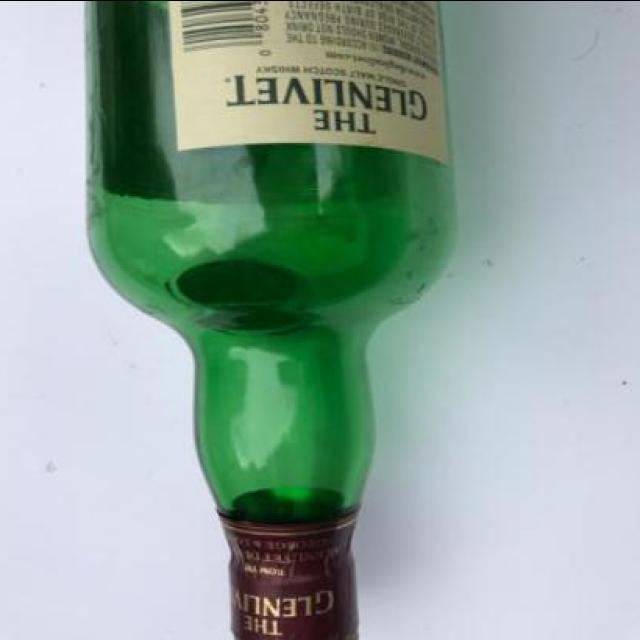kaca: (88, 0, 454, 640)
